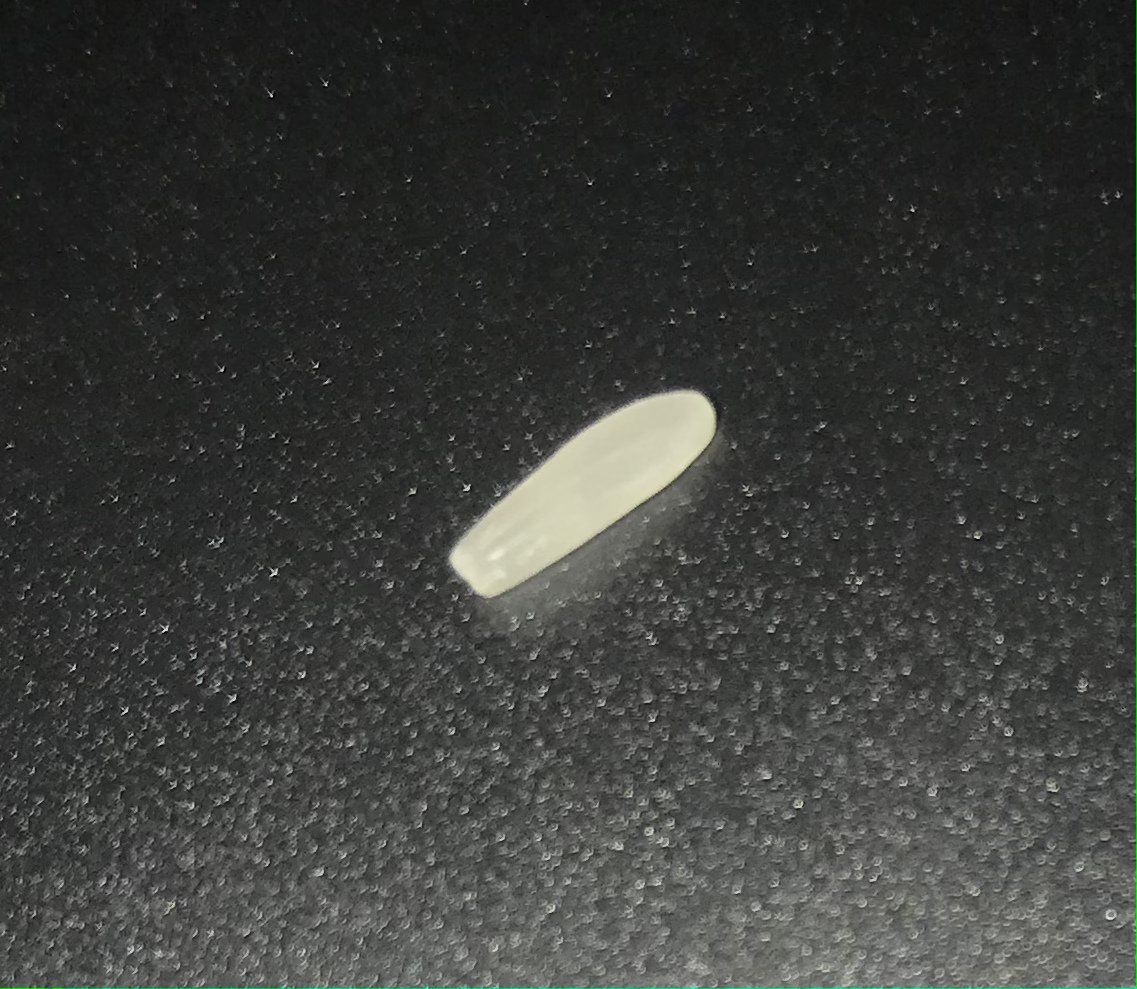Gao Thom My: (420, 364, 747, 614)
